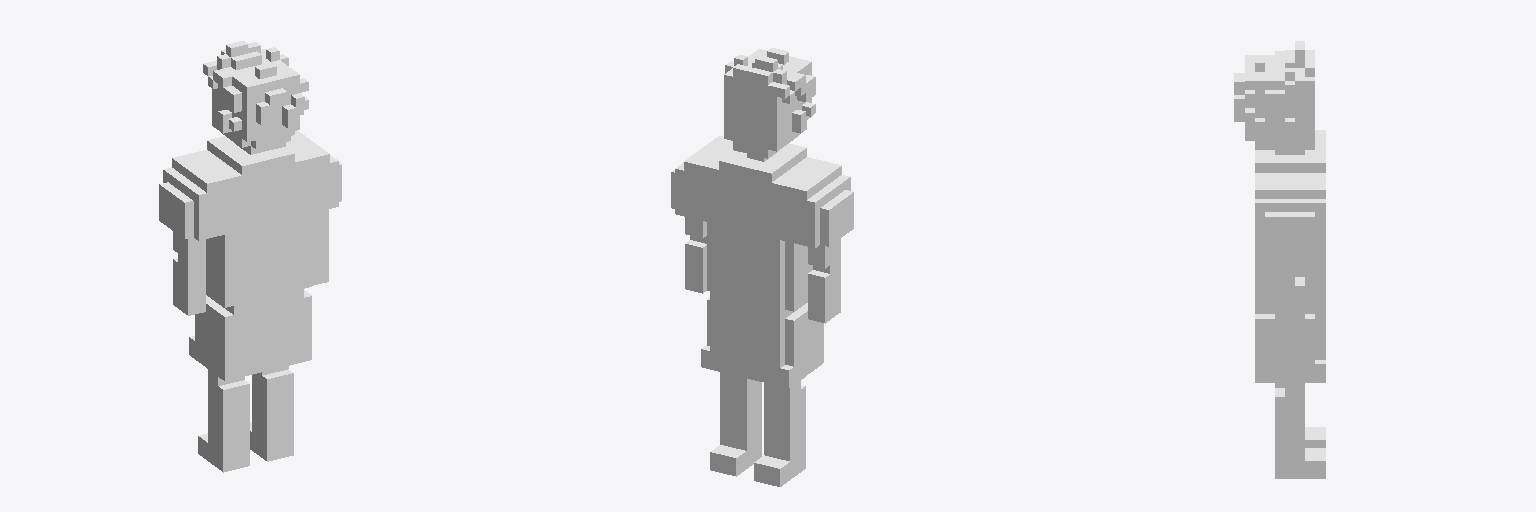
Rendered from player_sprite.obj.
3 renders of one model, left to right at view 1: azimuth 30°, elevation 25°; view 2: azimuth 150°, elevation 25°; view 3: azimuth 270°, elevation 25°, orthographic.
Visible parts, largest first — view 1: object 1; view 2: object 1; view 3: object 1.
Part boxes in pixels (left/top/right/bottom): object 1: left=159, top=41, right=341, bottom=472; object 1: left=671, top=48, right=853, bottom=486; object 1: left=1234, top=41, right=1325, bottom=478.
Bounding box in the file's own units: 1.8 × 4.5 × 0.9.